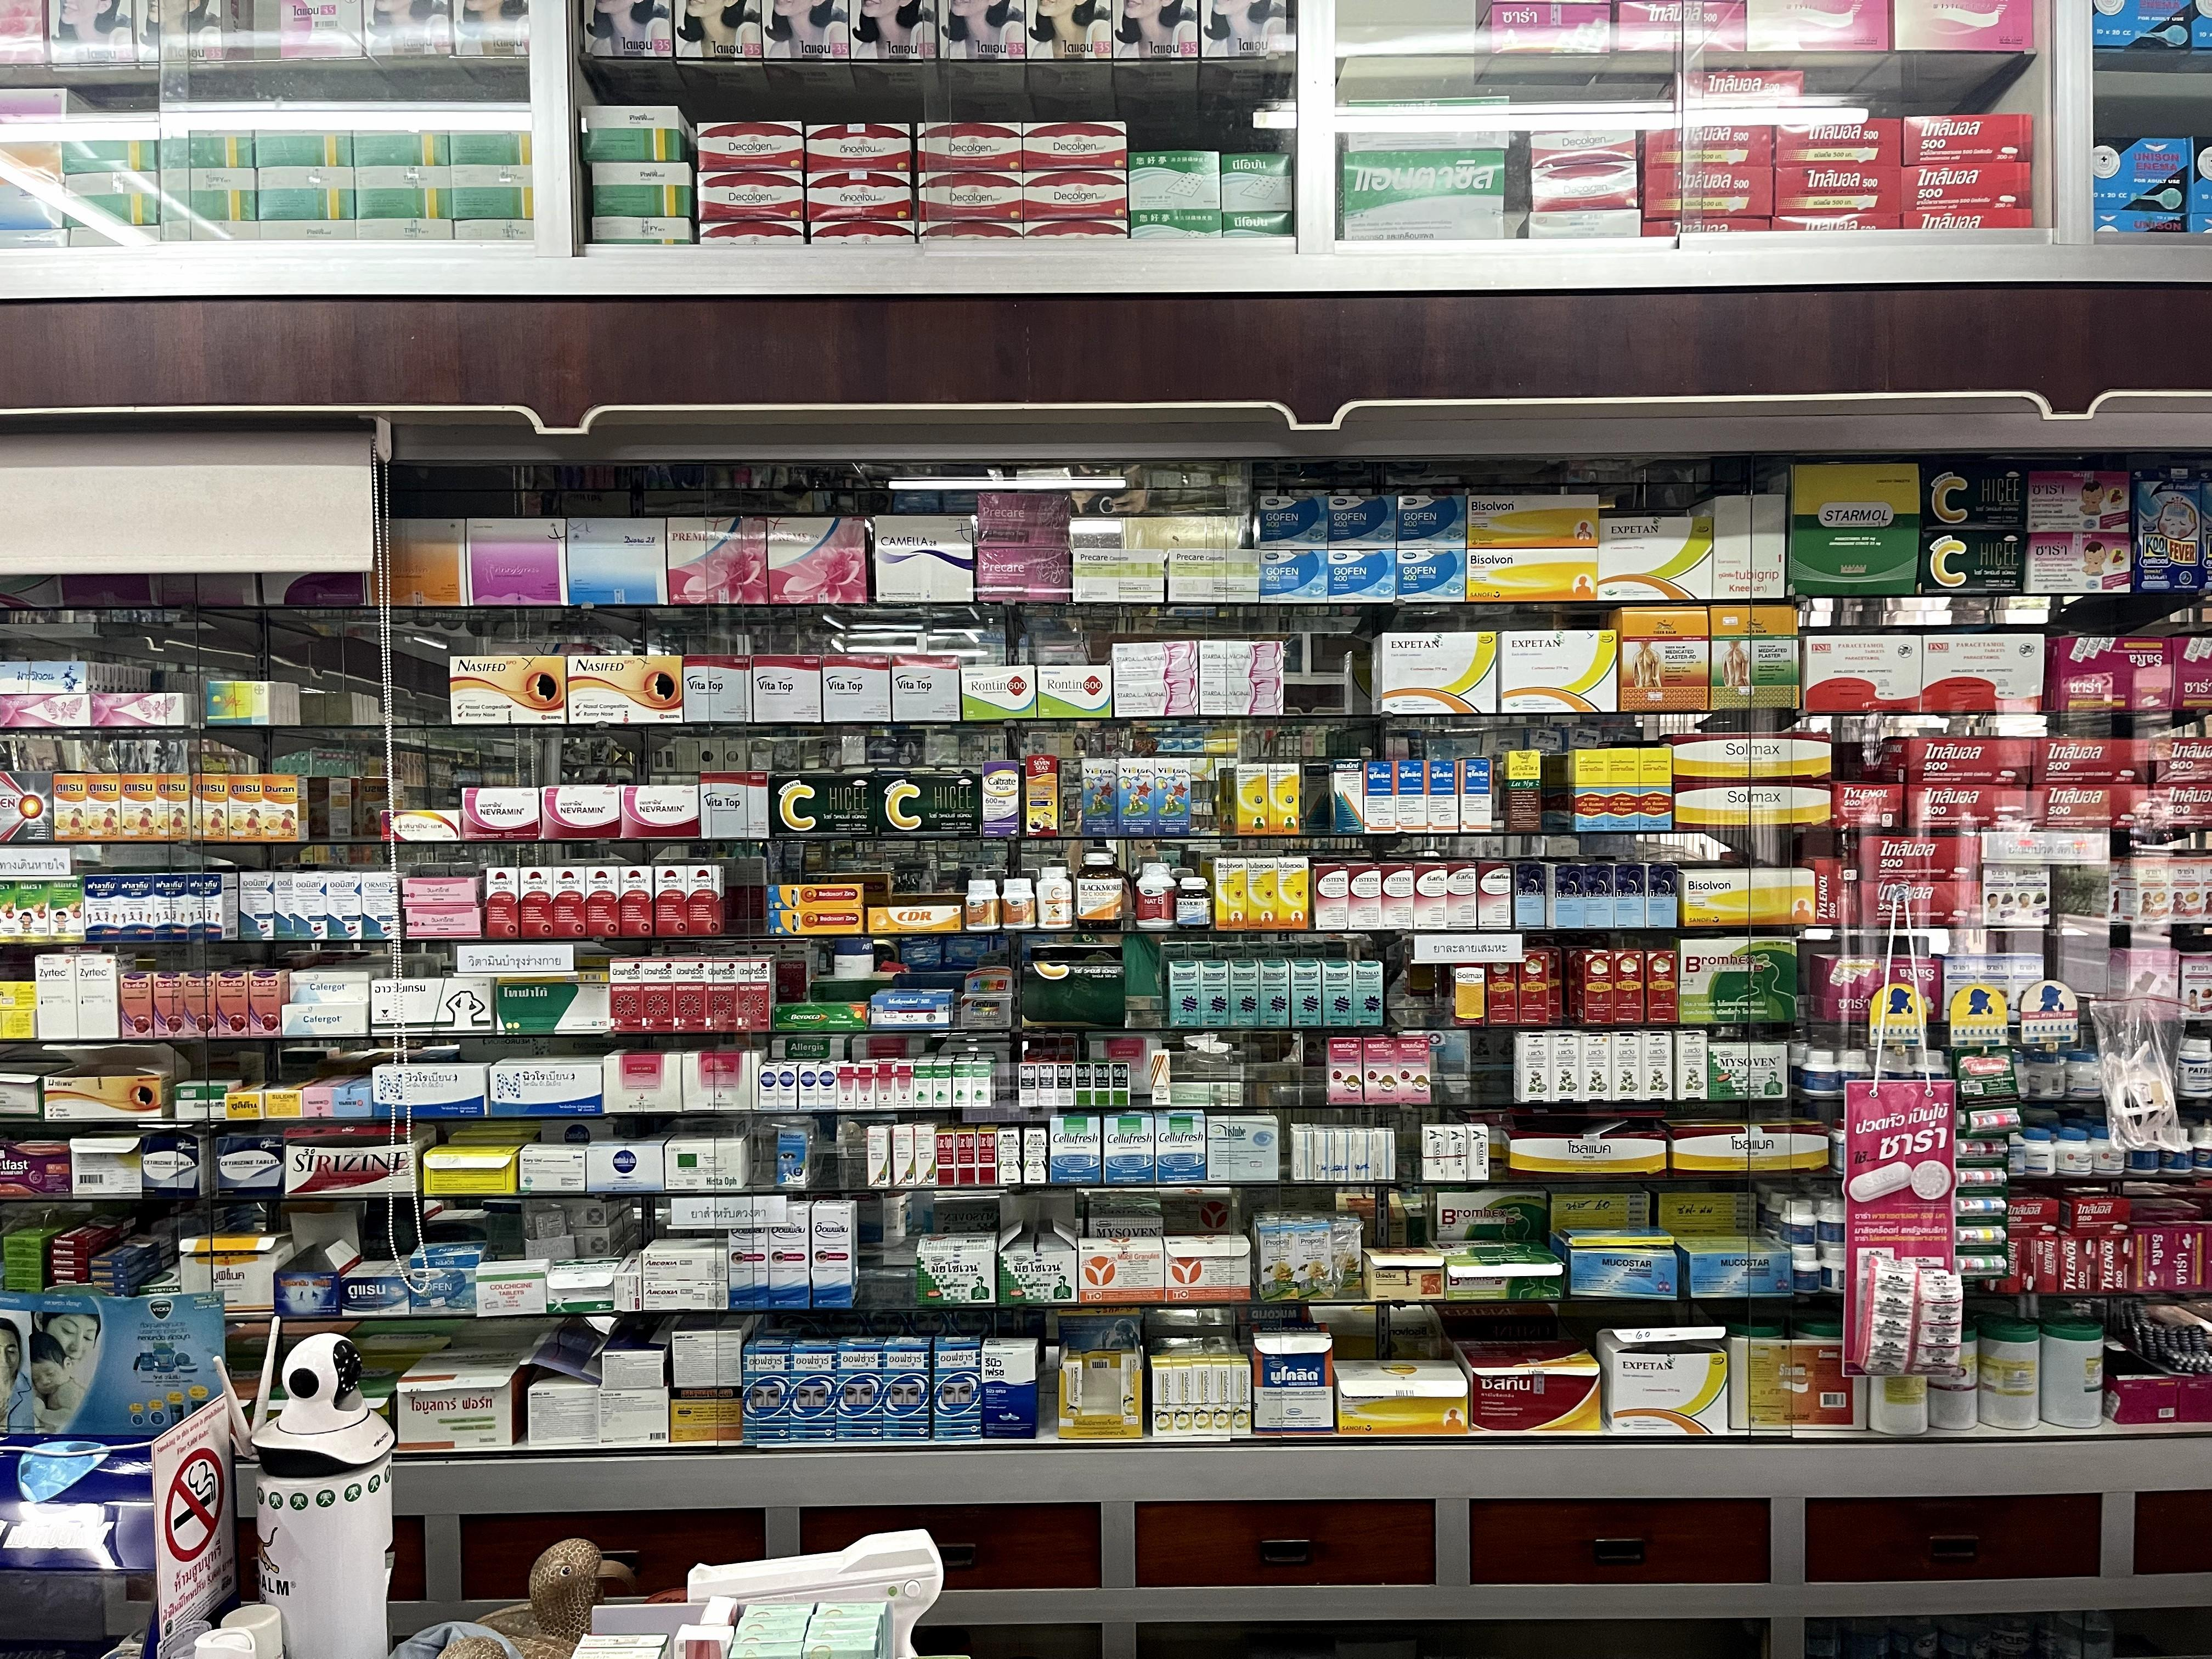Allergis: (914, 1063, 934, 1108), (953, 1061, 972, 1107), (972, 1061, 991, 1107), (934, 1061, 951, 1108)
Blackmores: (1076, 852, 1122, 931)
Cisteine: (1310, 863, 1346, 931), (1477, 859, 1512, 929), (1346, 864, 1381, 931), (1381, 863, 1414, 929), (1414, 864, 1447, 929), (1446, 861, 1477, 929)
Cisteine_Box: (1456, 1340, 1601, 1429)
Grafadex: (874, 1061, 895, 1110), (836, 1063, 855, 1110), (857, 1063, 876, 1110), (895, 1061, 914, 1108)
Heamovit: (486, 866, 521, 941), (519, 866, 554, 939), (620, 864, 655, 938), (655, 864, 690, 938), (688, 866, 725, 936), (585, 866, 620, 938), (554, 866, 587, 938)
Iyara: (1576, 950, 1615, 1023), (1613, 951, 1644, 1023), (1646, 951, 1677, 1023), (1519, 951, 1548, 1025), (1487, 958, 1519, 1023)
Lac-Oph_Red: (935, 1129, 956, 1185), (956, 1129, 977, 1185), (977, 1129, 996, 1183)
Ma-Kham-Pom: (1569, 749, 1608, 831), (1608, 748, 1641, 830), (1639, 748, 1672, 830)
Ma-Vaeng_Syrup: (1515, 1032, 1550, 1101), (1676, 1030, 1707, 1101), (1580, 1032, 1611, 1100), (1641, 1032, 1672, 1100), (1550, 1032, 1580, 1101), (1611, 1033, 1641, 1101)
Mucolax: (1547, 861, 1585, 927), (1642, 861, 1679, 927), (1613, 861, 1646, 927), (1514, 861, 1547, 925), (1583, 861, 1615, 927)
Nac-Long: (1332, 1127, 1355, 1182), (1291, 1127, 1313, 1180), (1312, 1129, 1334, 1180), (1374, 1127, 1395, 1180), (1355, 1127, 1374, 1182)
NatC: (967, 878, 1000, 931), (1001, 878, 1035, 931)
Nevramin: (542, 784, 622, 838), (622, 786, 700, 838), (463, 788, 540, 840)
Opplin: (812, 1201, 857, 1307), (770, 1201, 810, 1309), (728, 1223, 770, 1309)
Opsar: (744, 1338, 791, 1443), (836, 1340, 883, 1441), (883, 1338, 930, 1439), (934, 1338, 981, 1438), (791, 1340, 836, 1439)
Rhinalax: (1317, 958, 1352, 1026), (1258, 958, 1291, 1026), (1350, 958, 1383, 1026), (1289, 958, 1322, 1025), (1169, 960, 1200, 1028), (1230, 958, 1261, 1026), (1200, 960, 1230, 1028)
Solmax: (1454, 958, 1484, 1025)
Solmax-Capsule: (1669, 1121, 1829, 1176), (1503, 1131, 1669, 1180), (1674, 734, 1831, 782), (1674, 782, 1831, 830)
